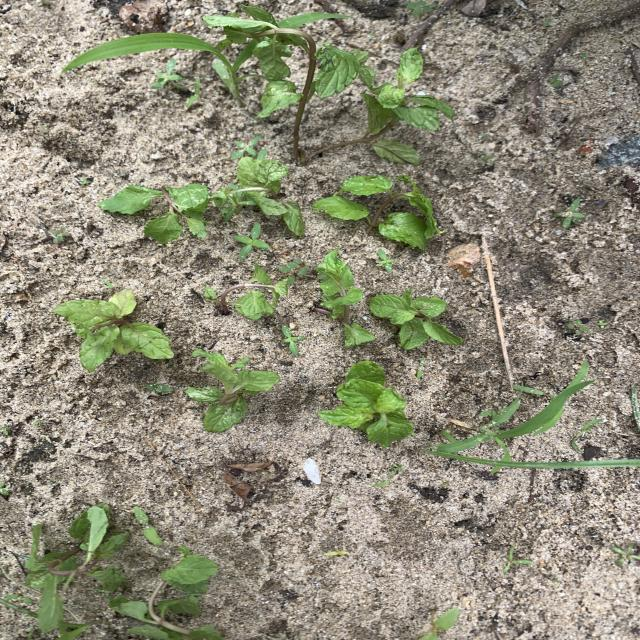crop: (204, 5, 374, 115), (316, 48, 454, 163), (25, 504, 128, 629), (113, 545, 224, 639), (53, 290, 172, 370), (314, 176, 444, 248), (319, 361, 414, 446), (211, 152, 302, 235), (186, 350, 279, 431), (99, 185, 209, 242), (316, 249, 373, 347), (370, 290, 461, 348), (204, 264, 295, 319)
weed: (424, 361, 640, 469), (64, 33, 260, 101), (234, 223, 269, 257), (420, 608, 458, 639), (276, 13, 348, 29), (134, 507, 162, 543), (572, 418, 602, 448), (153, 60, 183, 87), (557, 198, 583, 227), (502, 546, 531, 571), (281, 326, 304, 355), (231, 137, 260, 159), (613, 543, 639, 567), (279, 260, 309, 275), (407, 0, 439, 14), (377, 250, 393, 273), (187, 78, 199, 107), (567, 320, 589, 335), (3, 594, 32, 603), (147, 384, 171, 394), (52, 228, 69, 242), (373, 477, 391, 487), (417, 357, 424, 378), (478, 155, 494, 164), (390, 464, 402, 475), (0, 482, 8, 495), (325, 551, 347, 555), (103, 280, 113, 287), (0, 427, 8, 435), (597, 321, 607, 327), (81, 179, 89, 183)
